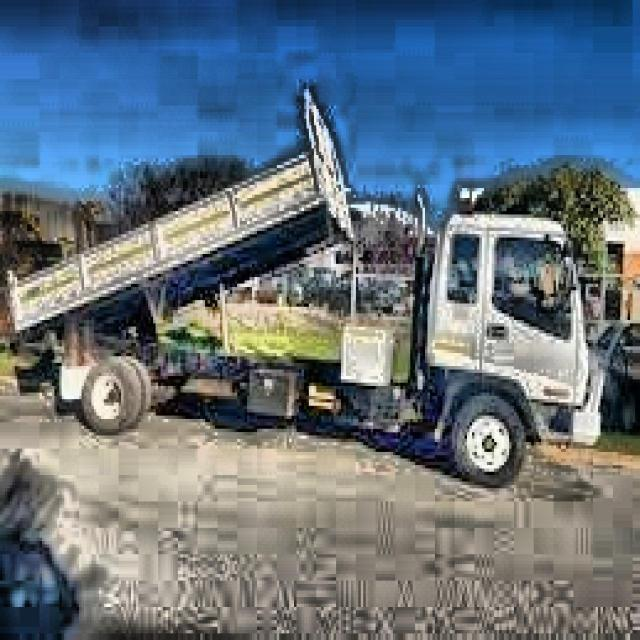dump_truck: (11, 94, 612, 492)
